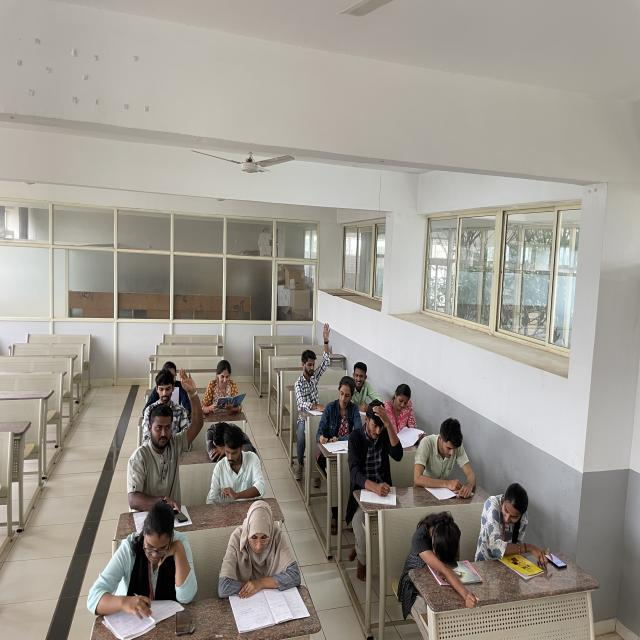Hand Rising: (146, 376, 199, 504), (286, 322, 339, 409)
Reading: (220, 505, 314, 621), (94, 513, 202, 610), (417, 424, 487, 499), (198, 357, 261, 417), (376, 381, 431, 446), (140, 362, 184, 409)
Sleeping: (405, 512, 472, 570), (203, 420, 260, 460)
Writing: (348, 407, 408, 504), (315, 382, 363, 449)
